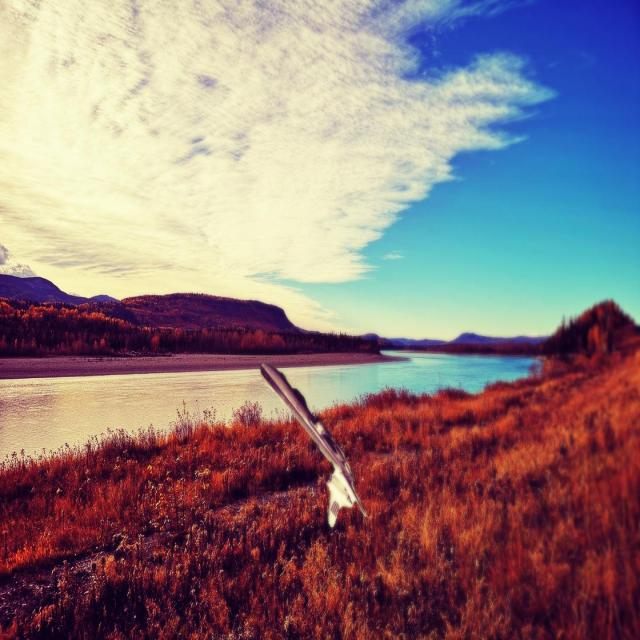airplane: (259, 361, 368, 528)
